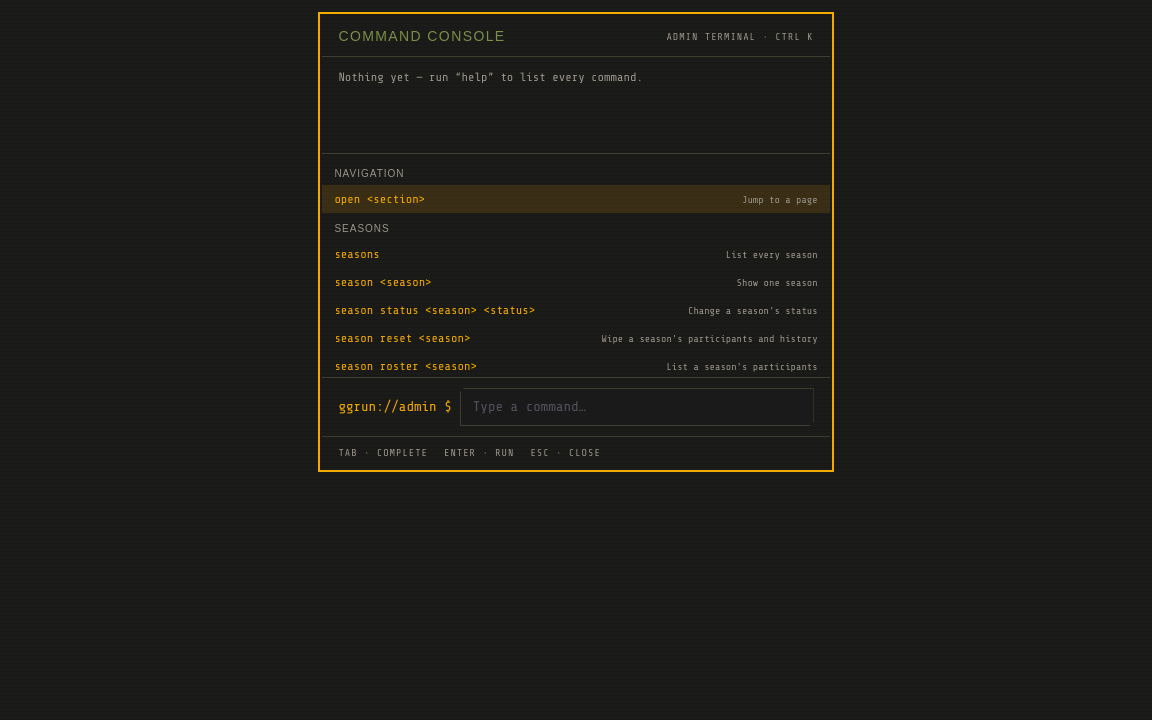
Scenario: client-only and result handling › renders the localized message returned by the action
The width and height of the screenshot is (1152, 720).
Step 1. Type "season x" into the dropdown with placeholder "Type a command…" → (637, 407), box [460,388,814,426]
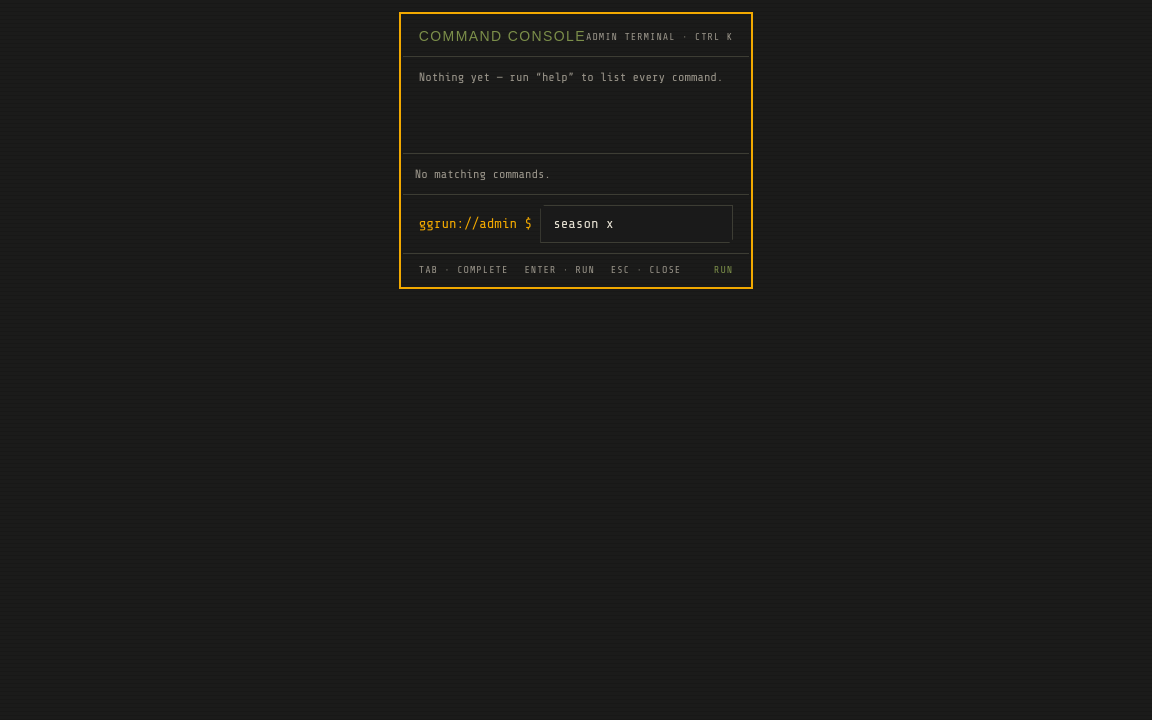
Step 2. Press Enter in the dropdown with placeholder "Type a command…", box [540,205,733,243]
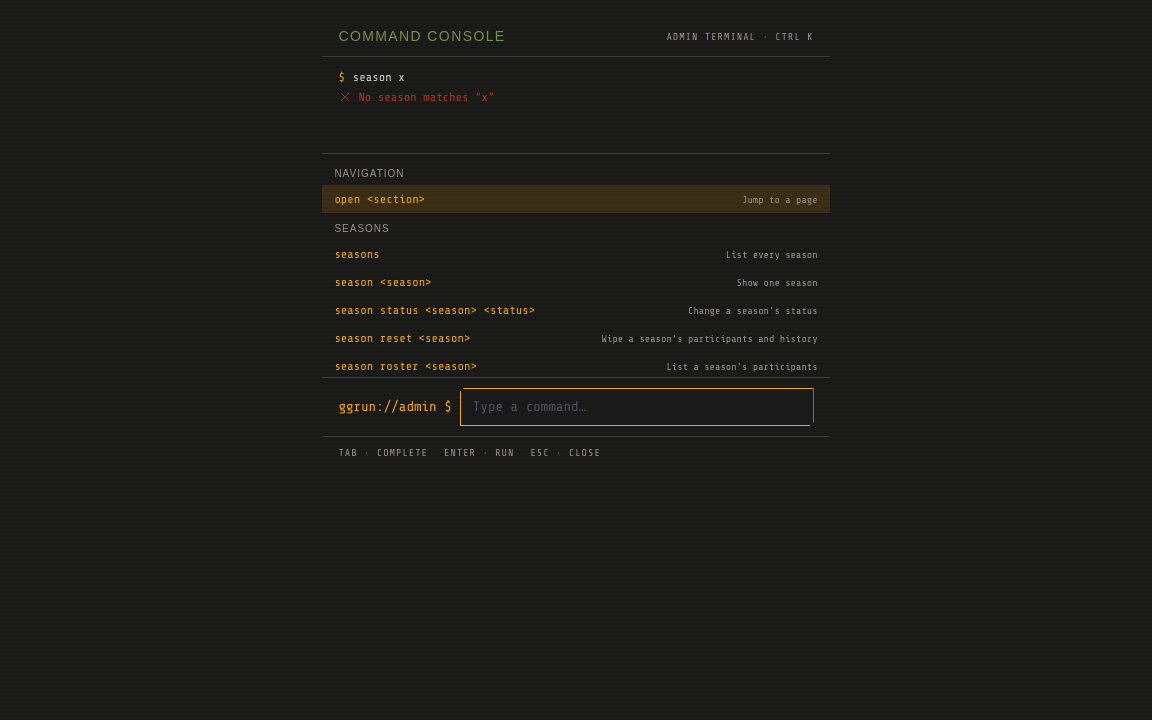
Check: the text "No season matches “x”" is shown, box [358,89,494,105]
